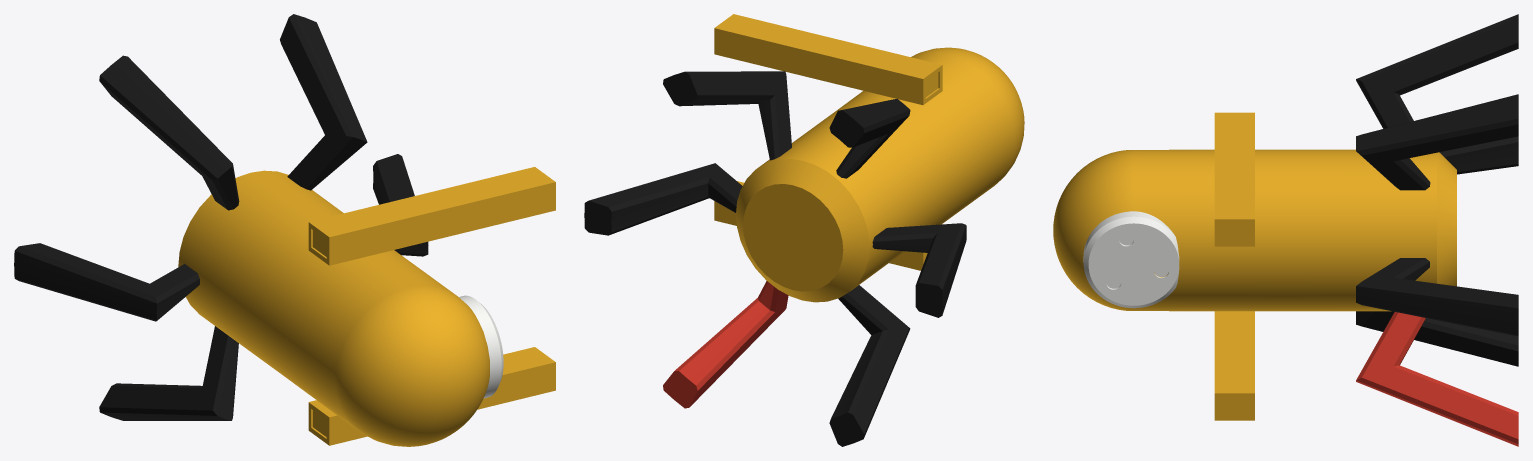
Rendered from Crewmate #3.fbx.
3 renders of one model, left to right at view 1: azimuth 30°, elevation 25°; view 2: azimuth 150°, elevation 25°; view 3: azimuth 270°, elevation 25°, orthographic. The views are drawn at different scales.
Parts seen in each view (by area): view 1: Body1, Body3, Body5, Body7, Body6, Body10, Body4, Body8, Body2; view 2: Body1, Body3, Body10, Body8, Body7, Body9, Body5, Body6, Body4; view 3: Body1, Body2, Body7, Body9, Body8, Body6, Body3, Body4, Body10, Body5.
Part boxes in pixels (x1,y1,x2,y2): Body1: [178, 170, 489, 446]; Body3: [308, 167, 555, 265]; Body5: [14, 243, 199, 321]; Body7: [280, 14, 367, 190]; Body6: [99, 55, 239, 210]; Body10: [99, 326, 238, 420]; Body4: [308, 347, 555, 445]; Body8: [373, 154, 428, 256]; Body2: [459, 295, 503, 398]; Body1: [736, 47, 1024, 302]; Body3: [714, 14, 942, 104]; Body10: [829, 285, 910, 446]; Body8: [584, 163, 742, 235]; Body7: [663, 71, 791, 160]; Body9: [663, 281, 788, 408]; Body5: [872, 223, 966, 317]; Body6: [829, 98, 910, 178]; Body4: [714, 181, 927, 270]; Body1: [1053, 149, 1456, 311]; Body2: [1083, 211, 1179, 308]; Body7: [1356, 94, 1518, 190]; Body9: [1356, 312, 1518, 446]; Body8: [1356, 258, 1518, 336]; Body6: [1356, 14, 1518, 128]; Body3: [1214, 112, 1254, 246]; Body4: [1214, 311, 1254, 420]; Body10: [1356, 311, 1518, 366]; Body5: [1439, 136, 1518, 174].
Bounding box in the file's own units: 2145 × 1926 × 2306.
